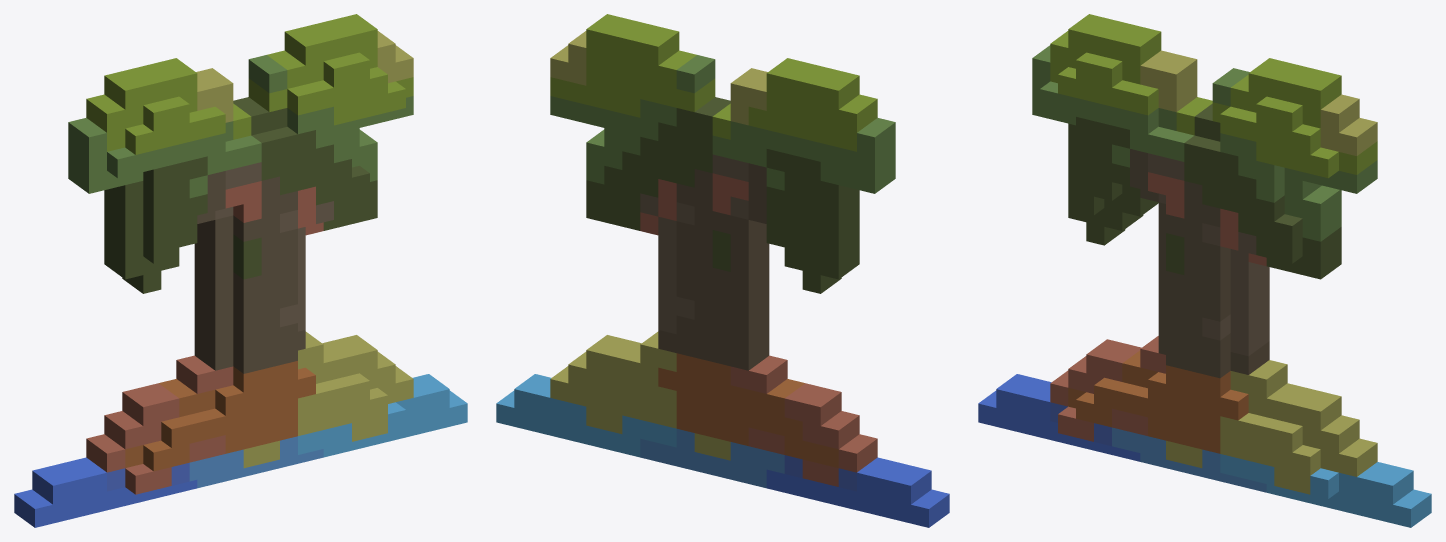
The model's file is postcard-island.glb.
3 views of the same model, side by side, from view 1: azimuth 30°, elevation 25°; view 2: azimuth 150°, elevation 25°; view 3: azimuth 330°, elevation 25° (orthographic).
Visible parts, largest first — view 1: prop; view 2: prop; view 3: prop.
Boxes of the visible parts, <box> form: prop: <box>14,14,467,527</box>; prop: <box>496,14,949,527</box>; prop: <box>978,14,1431,527</box>.
Size of the model in its own units: 16.36 by 15 by 2.05.
